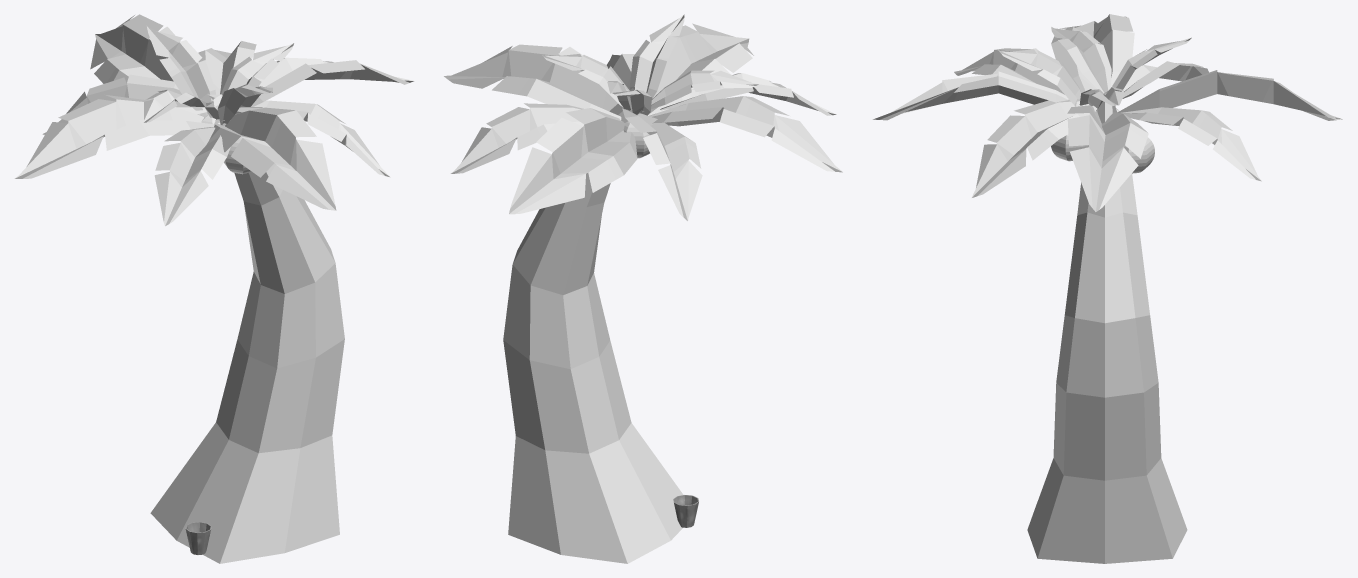
The model's file is BALDE.fbx.
The picture shows the model from 3 angles, left to right: view 1: azimuth 30°, elevation 25°; view 2: azimuth 150°, elevation 25°; view 3: azimuth 270°, elevation 25°; orthographic projection. The views are drawn at different scales.
Visible parts, largest first — view 1: Cube, Plane.003, Plane.004, Plane.007, Plane, Plane.002, Plane.011, Plane.005, Plane.001, Plane.009, Plane.006, Plane.010 (+2 smaller); view 2: Cube, Plane, Plane.002, Plane.004, Plane.006, Plane.003, Plane.001, Plane.010, Plane.007, Plane.008, Plane.009, Plane.011 (+2 smaller); view 3: Cube, Plane.002, Plane.005, Plane, Plane.003, Plane.006, Plane.004, Plane.008, Plane.010, Plane.007, Plane.001, Plane.011 (+1 smaller).
Boxes of the visible parts, bbox=[...] form: Cube: bbox=[150, 94, 344, 563]; Plane.003: bbox=[209, 107, 336, 210]; Plane.004: bbox=[14, 95, 214, 178]; Plane.007: bbox=[154, 127, 230, 226]; Plane: bbox=[90, 14, 199, 114]; Plane.002: bbox=[214, 57, 413, 124]; Plane.011: bbox=[147, 26, 215, 116]; Plane.005: bbox=[237, 100, 390, 177]; Plane.001: bbox=[42, 74, 206, 134]; Plane.009: bbox=[221, 43, 293, 126]; Plane.006: bbox=[198, 41, 256, 94]; Plane.010: bbox=[217, 84, 272, 125]; Cube: bbox=[503, 103, 683, 563]; Plane: bbox=[509, 108, 637, 214]; Plane.002: bbox=[444, 44, 621, 119]; Plane.004: bbox=[649, 96, 842, 172]; Plane.006: bbox=[450, 103, 583, 173]; Plane.003: bbox=[648, 23, 753, 115]; Plane.001: bbox=[622, 108, 702, 220]; Plane.010: bbox=[629, 14, 684, 98]; Plane.007: bbox=[660, 73, 836, 115]; Plane.008: bbox=[641, 70, 758, 112]; Plane.009: bbox=[541, 54, 629, 107]; Plane.011: bbox=[607, 81, 651, 115]; Cube: bbox=[1027, 89, 1187, 563]; Plane.002: bbox=[1067, 105, 1148, 211]; Plane.005: bbox=[971, 99, 1097, 197]; Plane: bbox=[1117, 70, 1342, 120]; Plane.003: bbox=[873, 71, 1068, 120]; Plane.006: bbox=[1120, 107, 1261, 181]; Plane.004: bbox=[1051, 14, 1134, 92]; Plane.008: bbox=[1051, 27, 1111, 92]; Plane.010: bbox=[998, 49, 1081, 106]; Plane.007: bbox=[954, 48, 1064, 94]; Plane.001: bbox=[1122, 61, 1208, 98]; Plane.011: bbox=[1112, 37, 1191, 91].
Size of the model in its own units: 1088 by 1241 by 1135.
